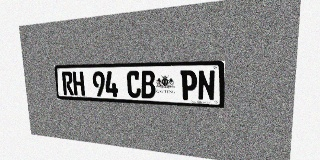4: (104, 71, 118, 97)
9: (92, 71, 106, 97)
B: (140, 71, 156, 99)
C: (126, 71, 141, 98)
H: (72, 71, 85, 96)
N: (198, 70, 215, 101)
P: (180, 70, 197, 100)
R: (62, 71, 74, 95)
